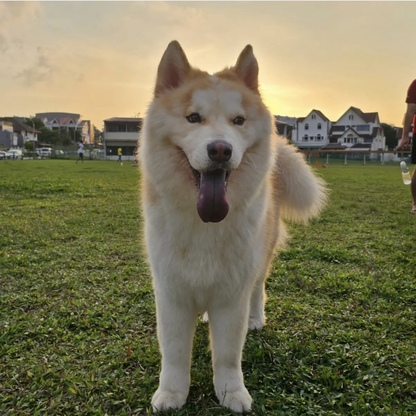husky: (131, 36, 333, 415)
